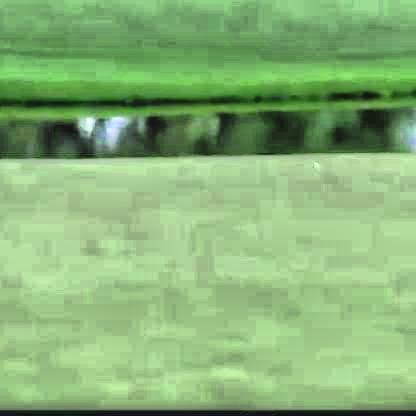golfball: (310, 157, 317, 167)
